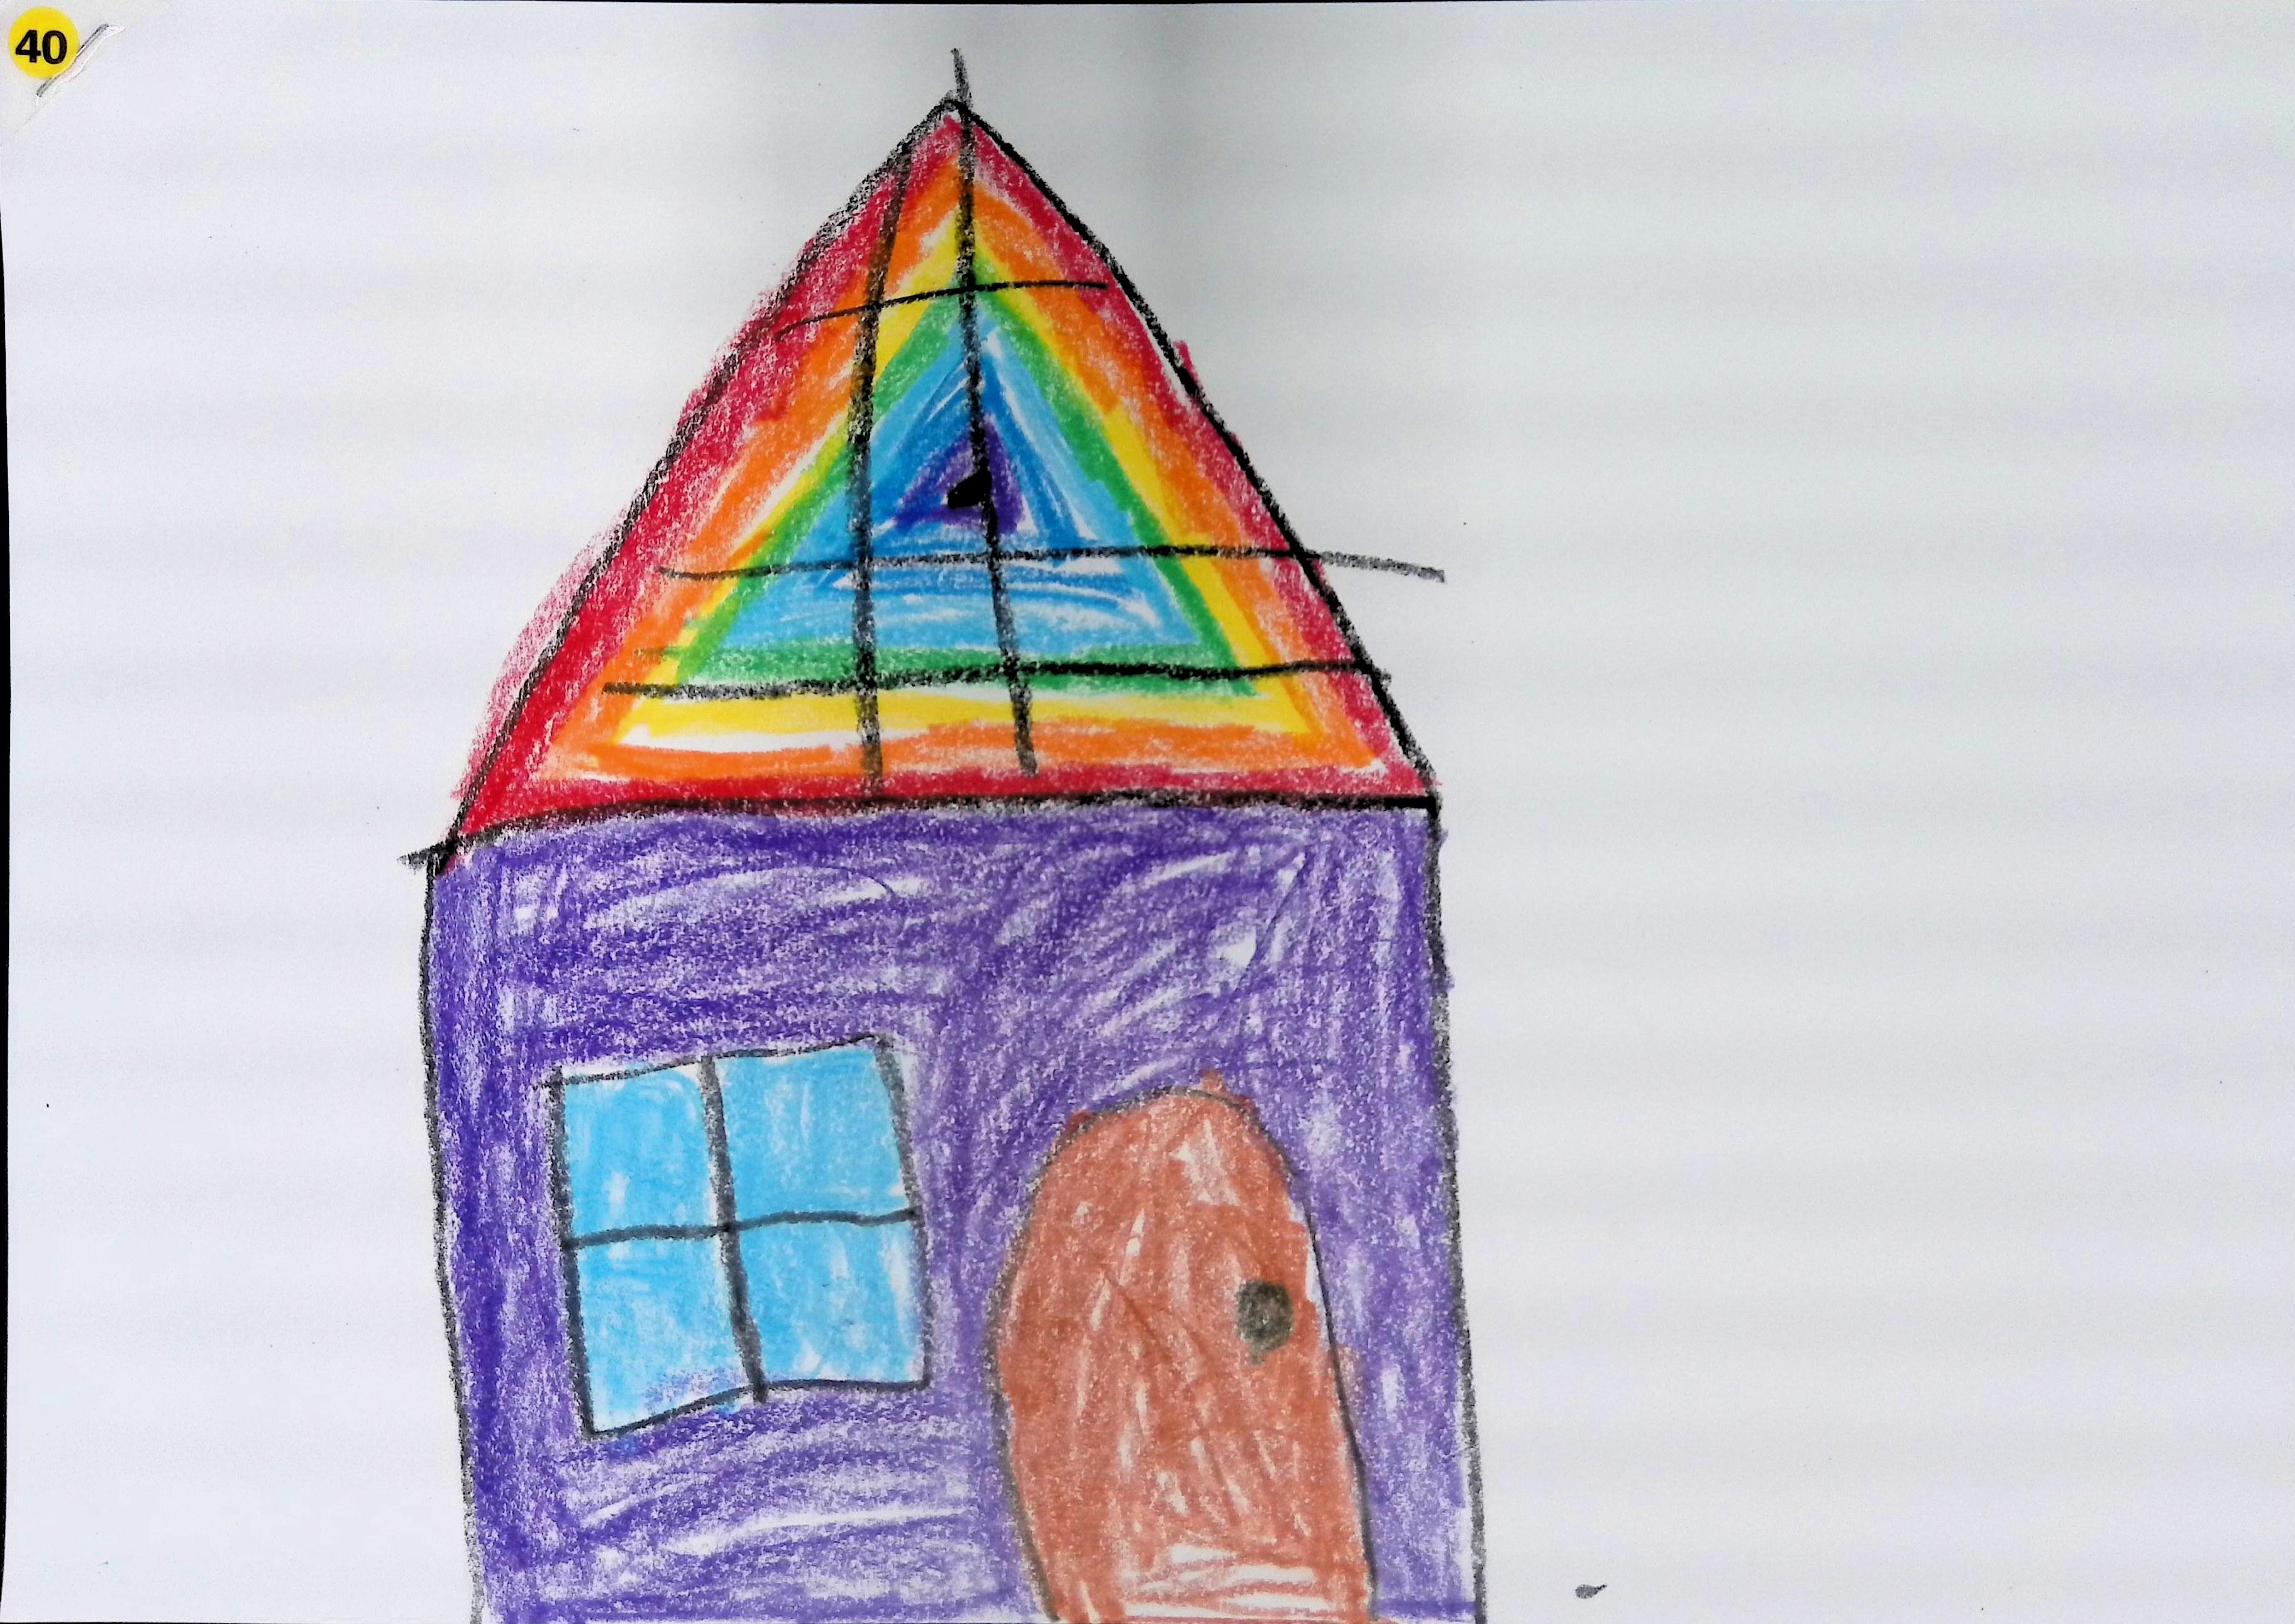door: (995, 1072, 1372, 1624)
house: (422, 69, 1481, 1624)
roof: (452, 84, 1434, 840)
wall: (422, 793, 1488, 1624)
window: (550, 1039, 926, 1436)
